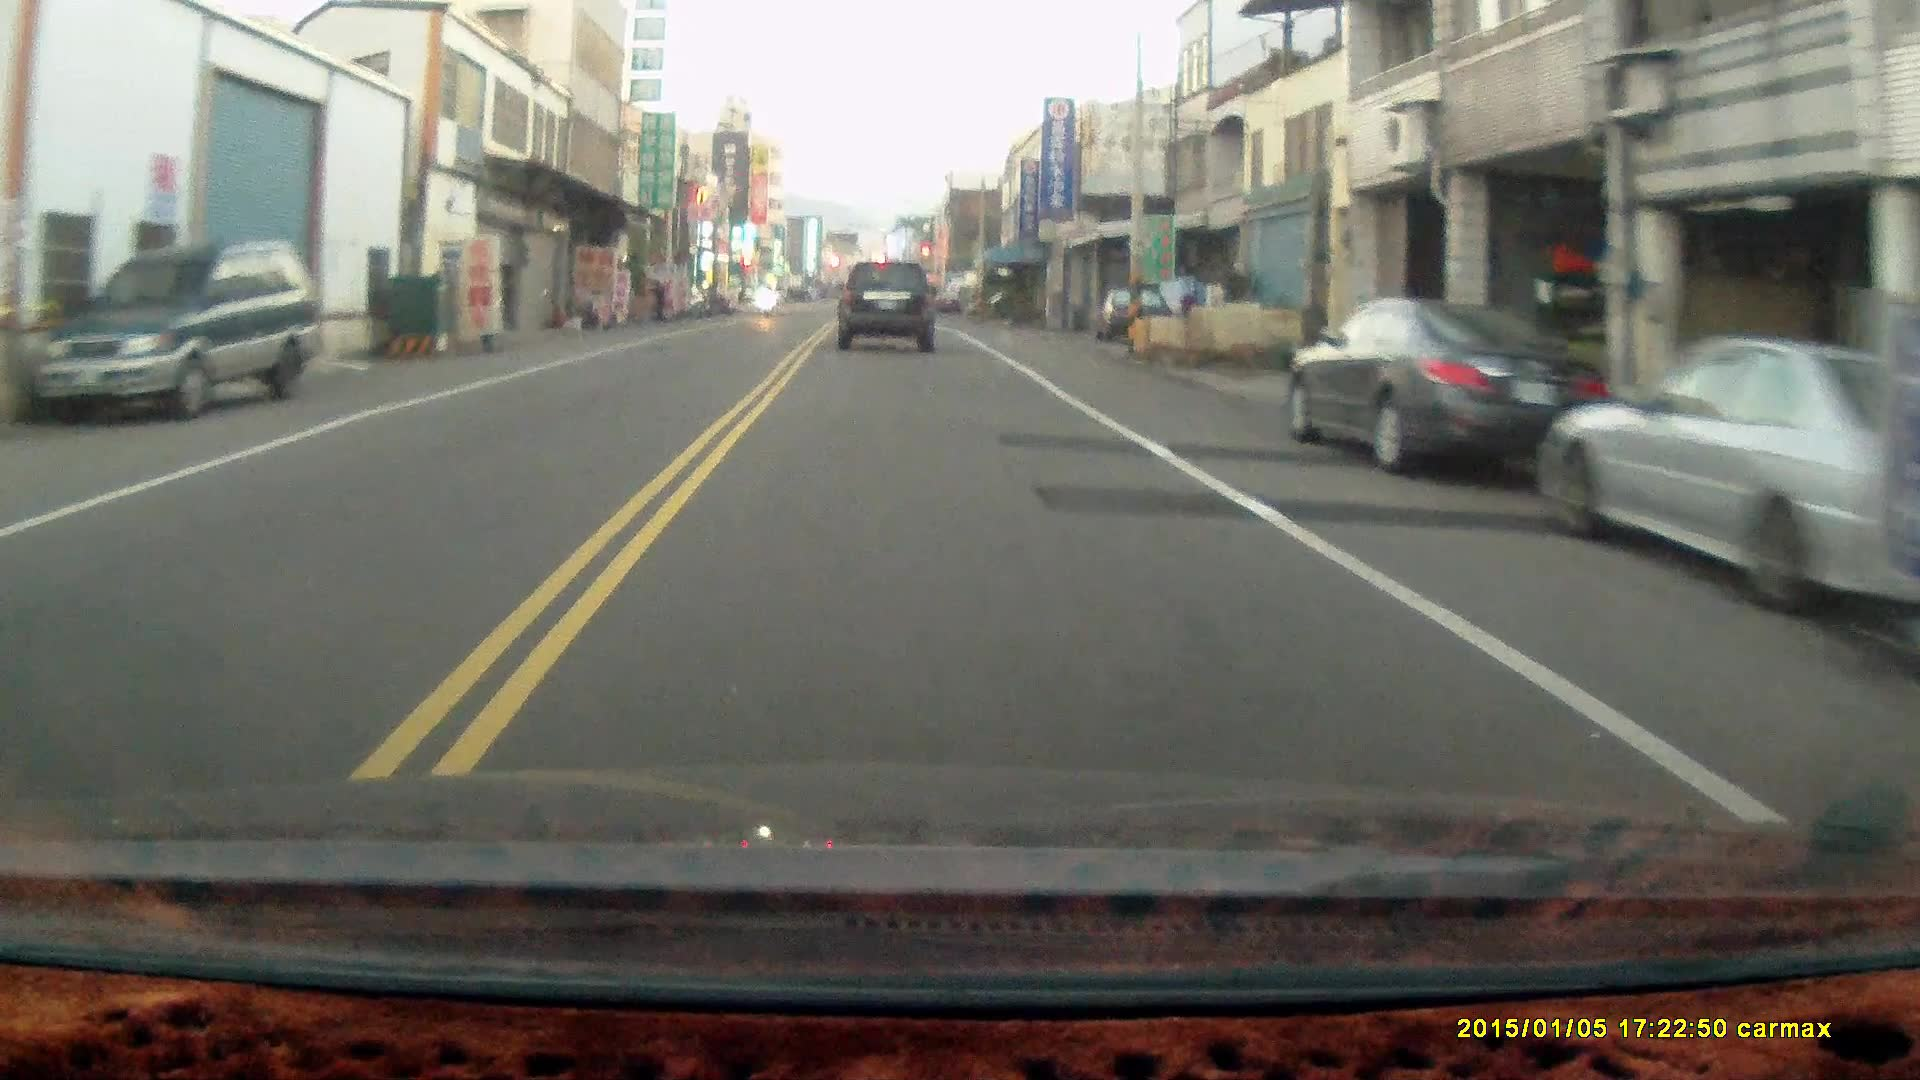pedestrian: (646, 276, 666, 326)
vehicle: (1535, 337, 1920, 630), (1287, 298, 1616, 477), (24, 238, 322, 428), (836, 258, 937, 352)
